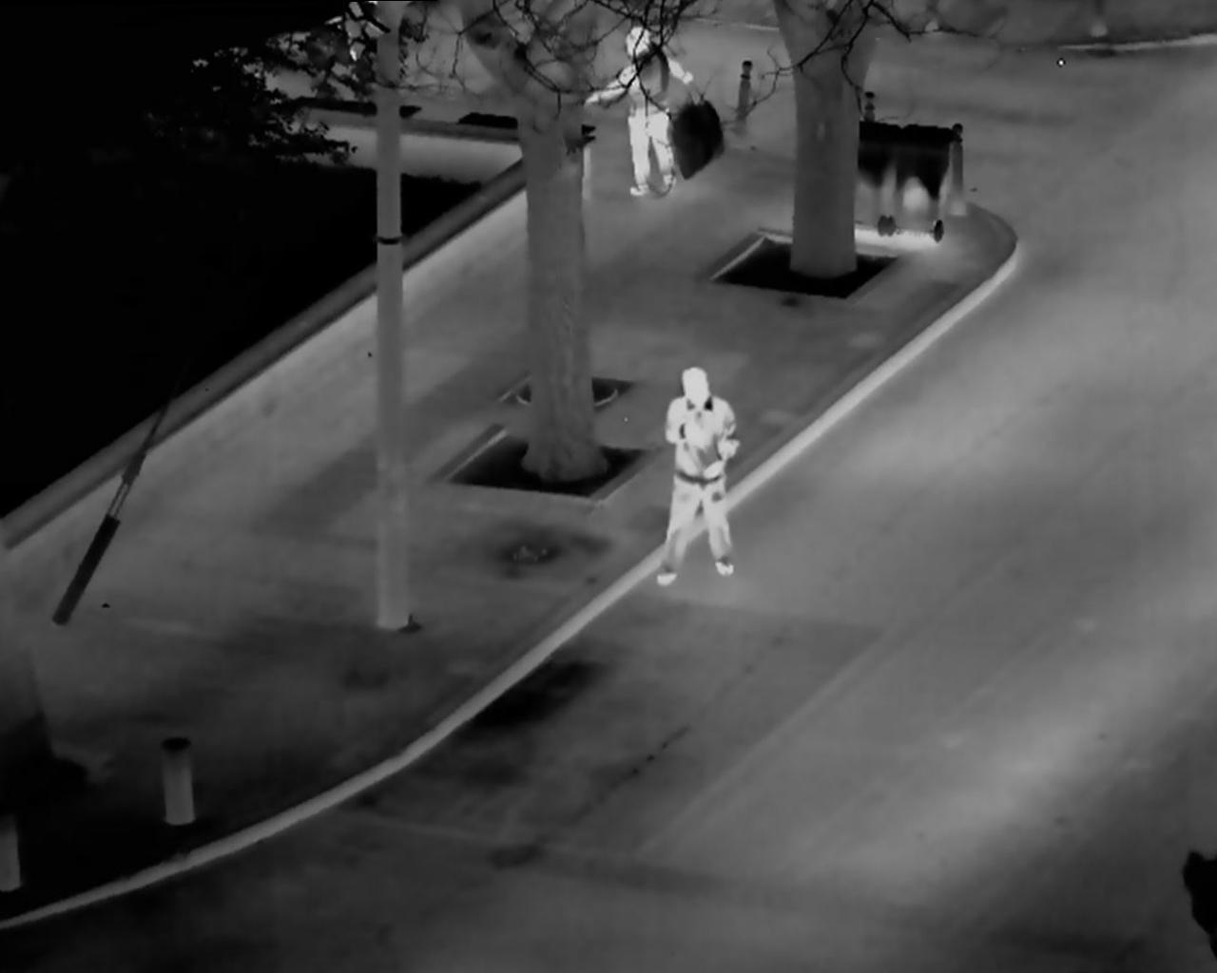person: (651, 349, 747, 600), (601, 16, 703, 213)
